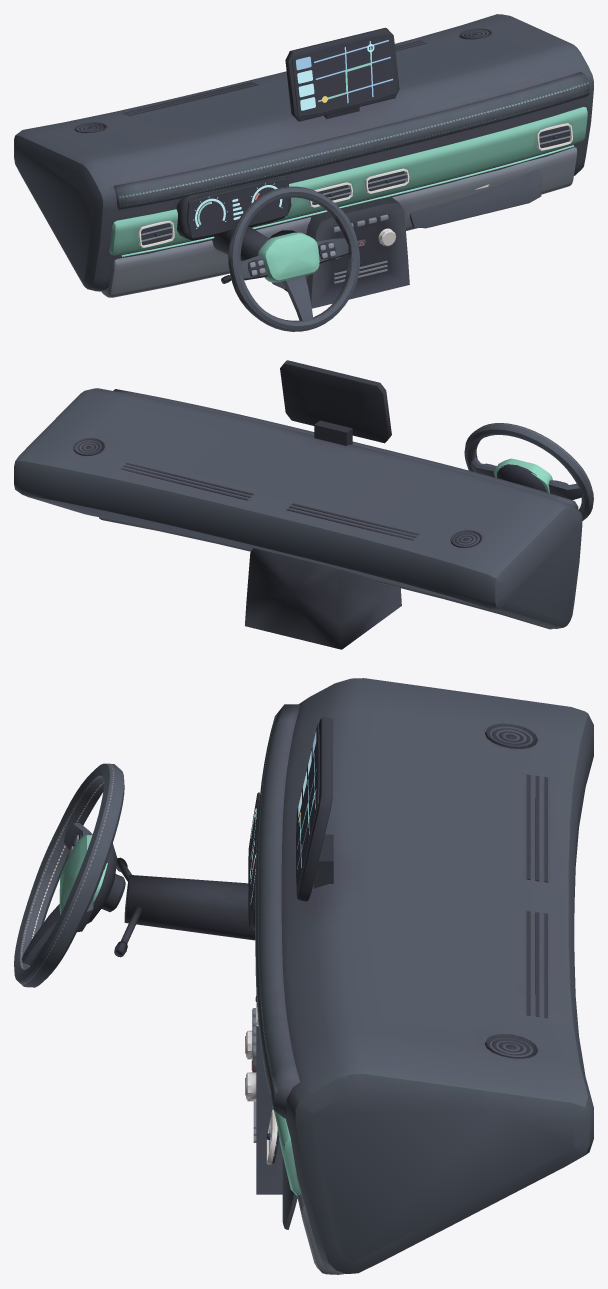
The model's file is car-dashboard.glb.
3 renders of one model, top to bottom at view 1: azimuth 30°, elevation 25°; view 2: azimuth 150°, elevation 25°; view 3: azimuth 270°, elevation 25°, orthographic. The views are drawn at different scales.
Parts seen in each view (by area): view 1: car-dashboard_body, car-dashboard_steering_wheel, car-dashboard_dash_screen_glow, car-dashboard_dash_ambient_glow, car-dashboard_dash_cluster_glow; view 2: car-dashboard_body, car-dashboard_steering_wheel; view 3: car-dashboard_body, car-dashboard_steering_wheel.
Part boxes in pixels (x1=…): car-dashboard_body: x1=14, y1=14, x2=593, y2=308; car-dashboard_steering_wheel: x1=228, y1=186, x2=360, y2=331; car-dashboard_dash_screen_glow: x1=296, y1=40, x2=392, y2=110; car-dashboard_dash_ambient_glow: x1=121, y1=145, x2=574, y2=256; car-dashboard_dash_cluster_glow: x1=193, y1=183, x2=282, y2=228; car-dashboard_body: x1=14, y1=360, x2=582, y2=649; car-dashboard_steering_wheel: x1=464, y1=423, x2=593, y2=520; car-dashboard_body: x1=114, y1=678, x2=593, y2=1274; car-dashboard_steering_wheel: x1=14, y1=763, x2=125, y2=987.
Size of the model in its own units: 1.5 by 0.6963 by 0.9162.
9 materials, 9 textured.
